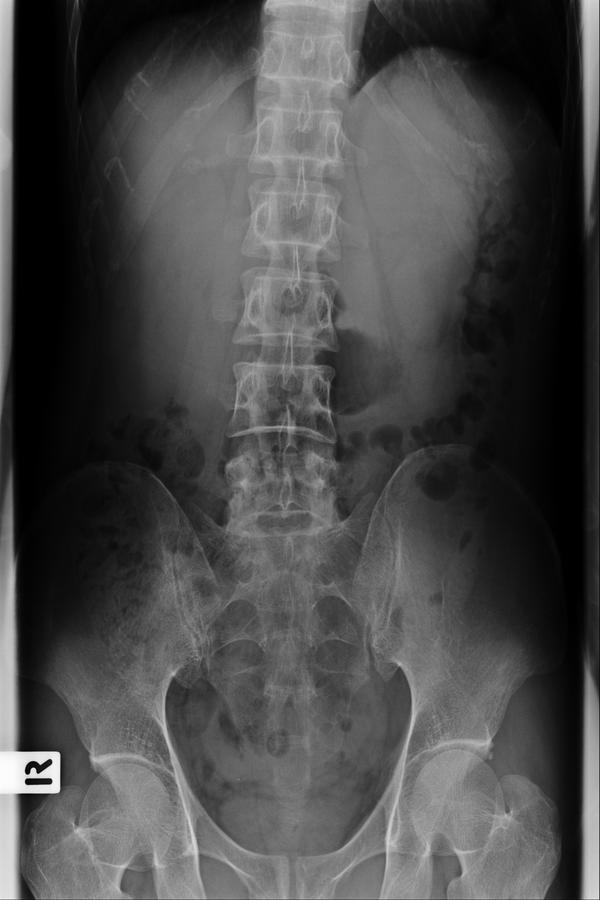lumbar scoliosis: (219, 11, 358, 565)
